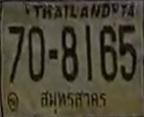0: (28, 26, 47, 83)
1: (85, 25, 93, 81)
5: (118, 24, 137, 81)
6: (99, 25, 117, 80)
7: (8, 26, 24, 83)
8: (61, 25, 77, 81)
SKN: (37, 89, 109, 114)
